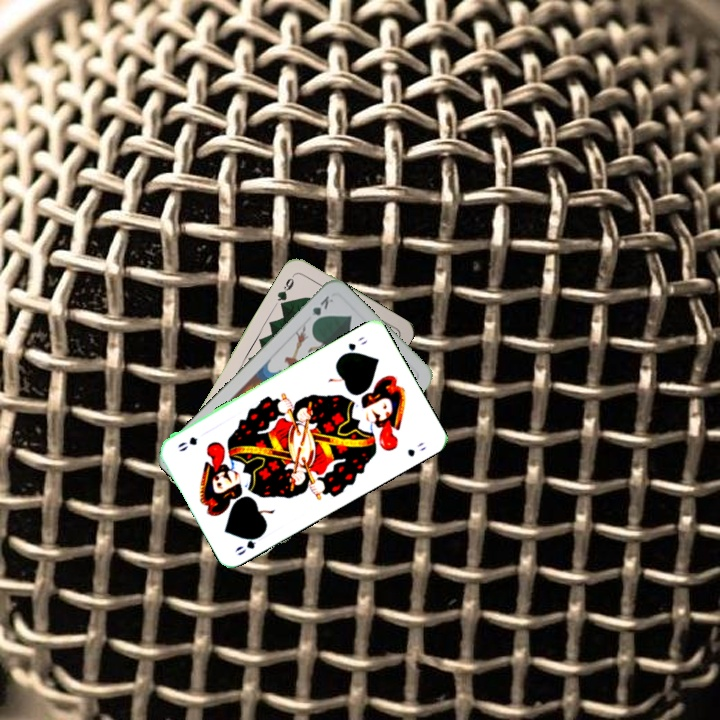G9: (273, 270, 299, 309)
GK: (307, 291, 336, 327)
GO: (231, 529, 267, 558), (337, 332, 370, 359)
